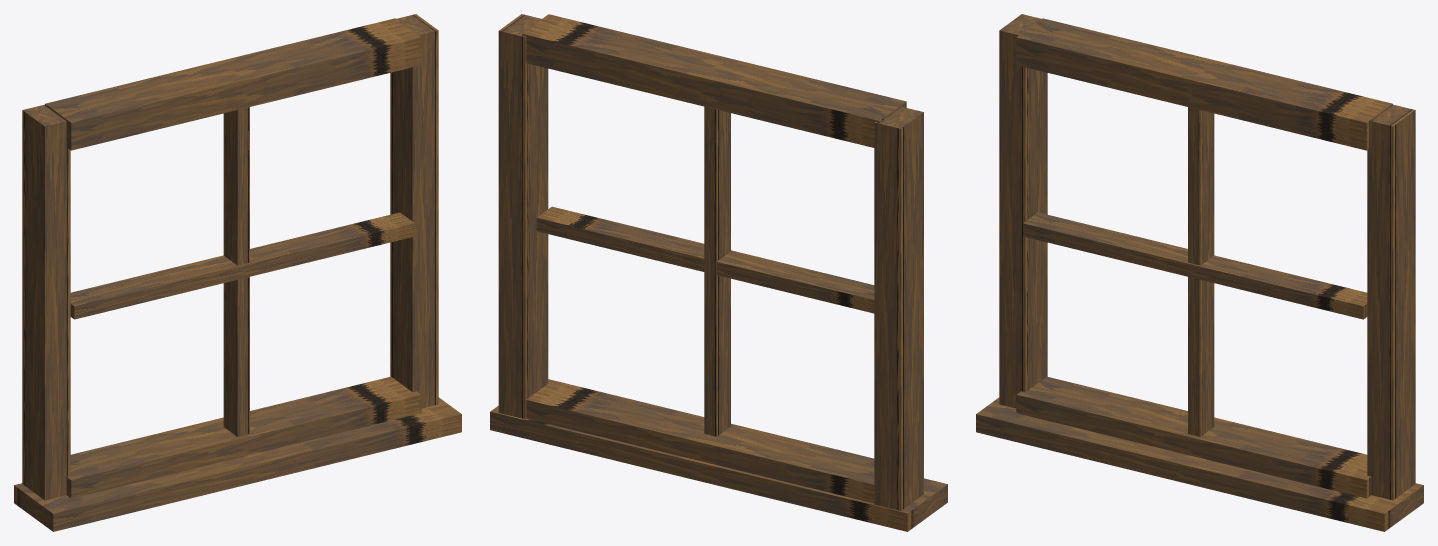
The model's file is window_frame.glb.
The picture shows the model from 3 angles, left to right: view 1: azimuth 30°, elevation 25°; view 2: azimuth 150°, elevation 25°; view 3: azimuth 330°, elevation 25°; orthographic projection. The views are drawn at different scales.
Visible parts, largest first — view 1: winter_window_frame; view 2: winter_window_frame; view 3: winter_window_frame.
Boxes of the visible parts, x1,y1,x2,y2 form: winter_window_frame: (14, 14, 461, 531); winter_window_frame: (490, 14, 947, 531); winter_window_frame: (976, 14, 1423, 531).
Bounding box in the file's own units: 1.26 × 1.16 × 0.21.
1 material, 1 textured.
